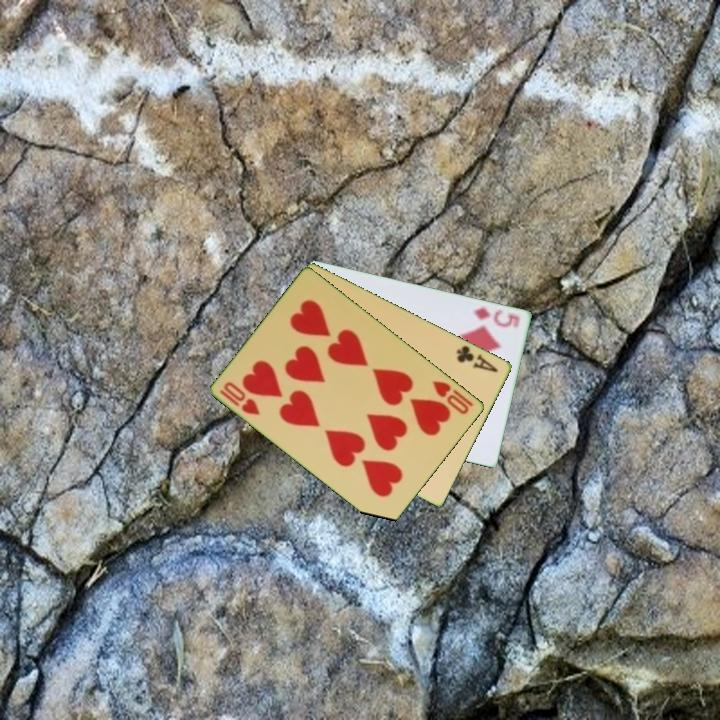10h: (429, 377, 477, 417), (216, 378, 263, 418)
5d: (471, 303, 523, 331)
Ac: (453, 342, 502, 375)
